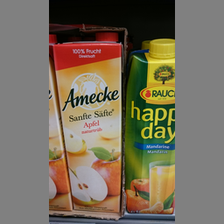juice: (53, 33, 121, 211), (125, 39, 175, 216)
